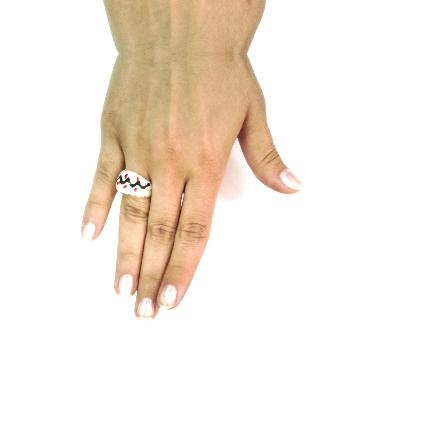Nail: (280, 168, 303, 190), (158, 285, 177, 310), (136, 298, 154, 318), (118, 275, 133, 296), (82, 223, 95, 240)
